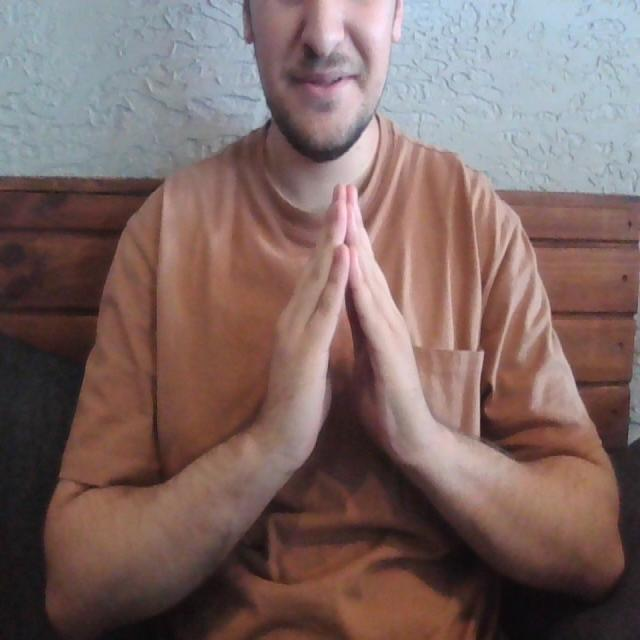Ev: (251, 178, 438, 482)
